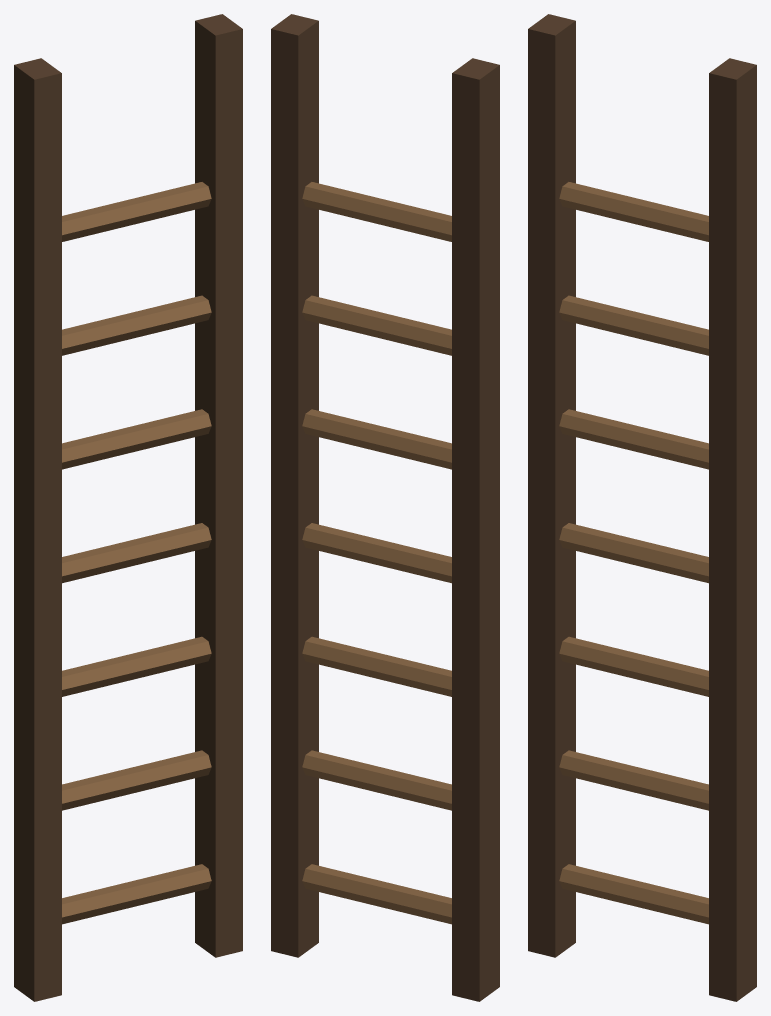
File: hatch_ladder.glb
3 renders of one model, left to right at view 1: azimuth 30°, elevation 25°; view 2: azimuth 150°, elevation 25°; view 3: azimuth 330°, elevation 25°, orthographic.
Parts seen in each view (by area): view 1: Hatch ladder; view 2: Hatch ladder; view 3: Hatch ladder.
Boxes of the visible parts, x1,y1,x2,y2 form: Hatch ladder: [14, 14, 242, 1001]; Hatch ladder: [271, 14, 499, 1001]; Hatch ladder: [528, 14, 756, 1001].
Size of the model in its own units: 0.472 by 2 by 0.08.
